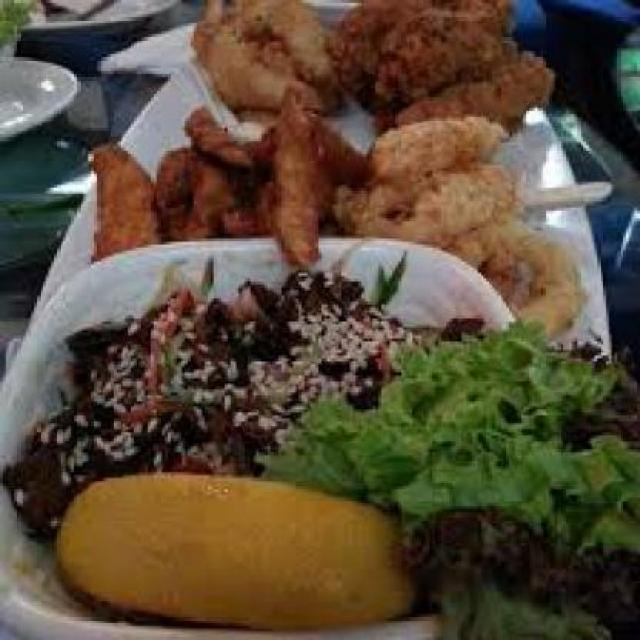beet salad: (6, 262, 632, 632)
chicken wings: (84, 3, 358, 262)
onion rings: (350, 109, 595, 333)
